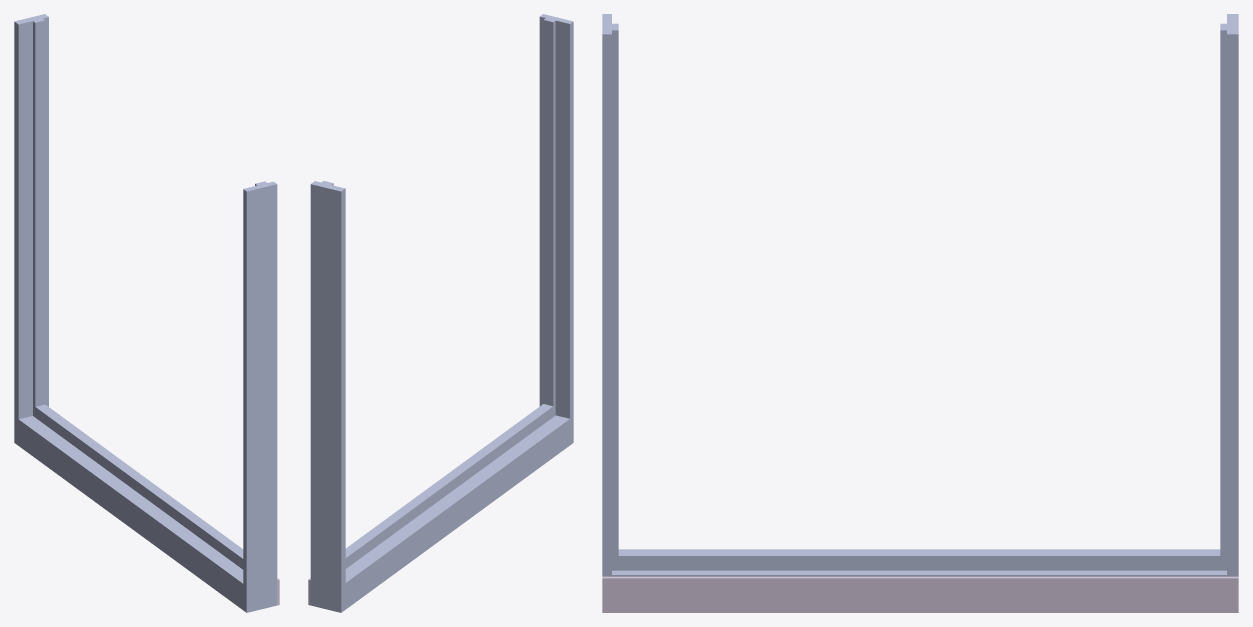
The model's file is WallFrame_2.fbx.
The picture shows the model from 3 angles, left to right: view 1: azimuth 30°, elevation 25°; view 2: azimuth 150°, elevation 25°; view 3: azimuth 270°, elevation 25°; orthographic projection. The views are drawn at different scales.
Parts seen in each view (by area): view 1: WallWithSkirt.003; view 2: WallWithSkirt.003; view 3: WallWithSkirt.003.
Part boxes in pixels (x1,y1,x2,y2): WallWithSkirt.003: [14, 14, 279, 612]; WallWithSkirt.003: [308, 14, 573, 612]; WallWithSkirt.003: [602, 14, 1238, 612].
Bounding box in the file's own units: 16.36 × 200 × 200.
